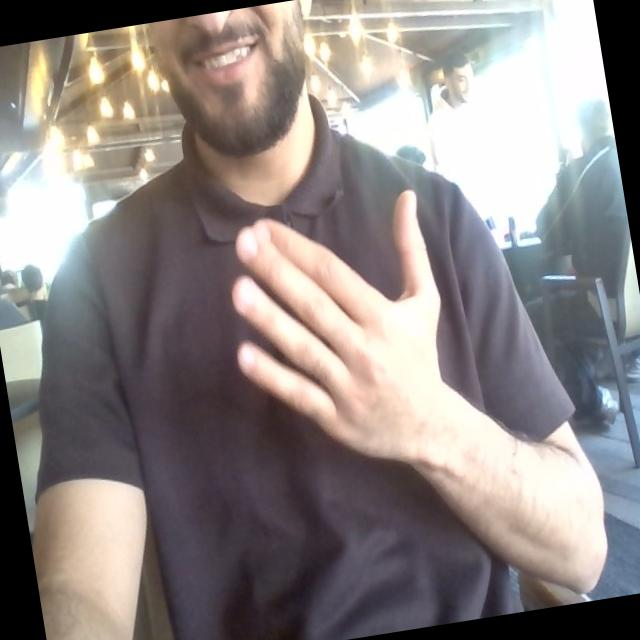Hand: (232, 191, 445, 462)
